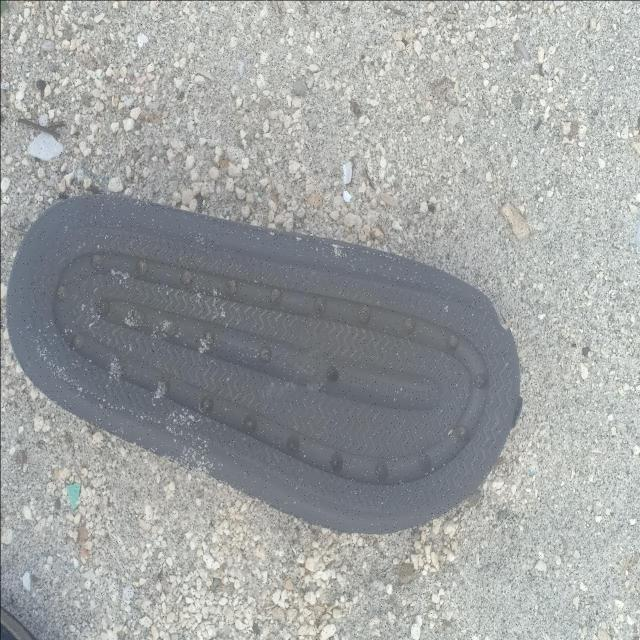rubber_waste: (5, 192, 523, 537)
